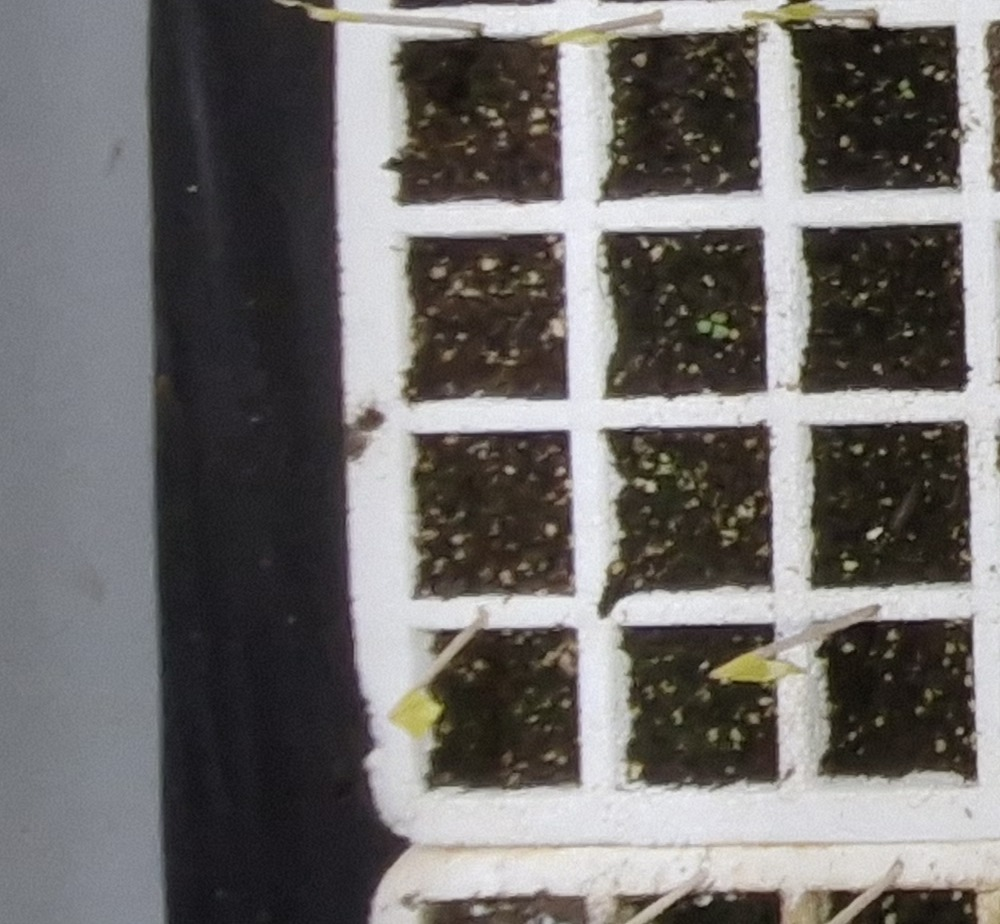Folha: (713, 312, 730, 323), (714, 326, 730, 337), (697, 321, 712, 332), (902, 88, 915, 98), (899, 81, 910, 90)
Germinacao: (698, 311, 730, 338), (897, 80, 916, 99)
